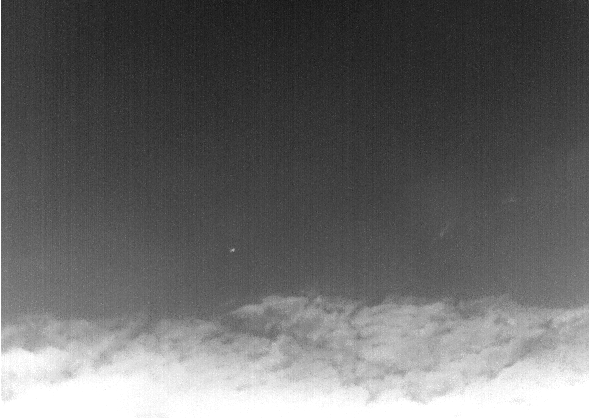dim target: (227, 246, 238, 254)
